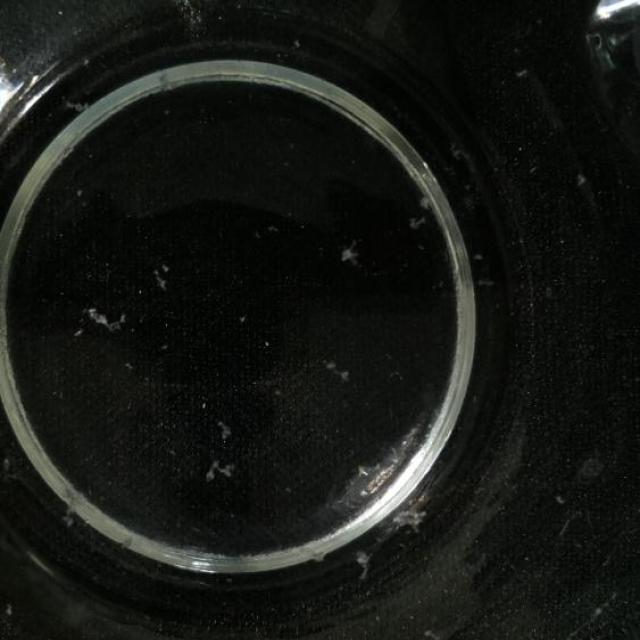fiber: (88, 302, 133, 332), (397, 497, 427, 537), (329, 241, 359, 275), (320, 352, 354, 382), (212, 410, 236, 446), (152, 257, 176, 292), (352, 548, 377, 576), (207, 459, 233, 485)
